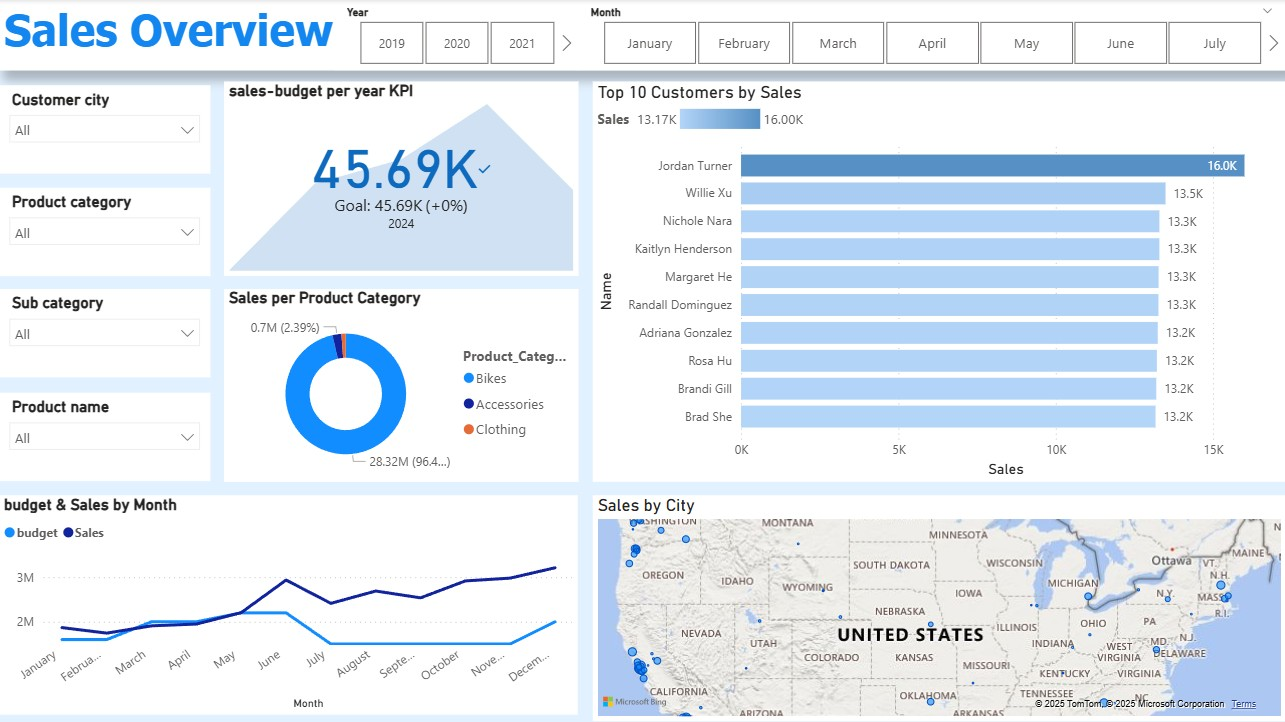

What the dashboard file says about the page in this screenshot:
{"tool":"powerbi","page":{"name":"Sales overview","canvas":[1280,720],"ordinal":0},"visuals":[{"type":"textbox","box":[0,0,1280.3,71.5],"z":0},{"type":"slicer","fields":{"Values":["customer&geography.Customer city"]},"box":[0,85.5,210.3,88.3],"z":1000},{"type":"slicer","fields":{"Values":["Productinfos.Sub_category"]},"box":[0,288.9,210.3,88.3],"z":2000},{"type":"slicer","fields":{"Values":["Productinfos.Product_Category"]},"box":[0,187.9,210.3,88.3],"z":3000},{"type":"slicer","fields":{"Values":["Productinfos.Product_name"]},"box":[0,391.2,210.3,88.3],"z":4000},{"type":"slicer","fields":{"Values":["dimdatedata.Year"]},"box":[333.4,1.4,242.9,70],"z":5000},{"type":"slicer","fields":{"Values":["dimdatedata.Monthh"]},"box":[576.3,1.4,703.9,70],"z":6000},{"type":"kpi","title":"sales-budget per year KPI","fields":{"TrendLine":["dimdatedata.Year"],"Goal":["key measures.Sales"],"Indicator":["key measures.sales-budget"]},"box":[223.7,82.3,352.7,193.5],"z":7000},{"type":"donutChart","title":"Sales per Product Category","fields":{"Category":["Productinfos.Product_Category"],"Y":["key measures.Sales_sum"]},"box":[223.6,288.9,352.8,191.7],"z":8000},{"type":"lineChart","title":"budget & Sales by Month","fields":{"Category":["dimdatedata.Monthh"],"Y":["key measures.budget_sum","key measures.Sales_sum"]},"box":[0,494.4,576.4,218.1],"z":9000},{"type":"barChart","title":"Top 10 Customers by Sales","fields":{"Y":["key measures.Sales_sum"],"Category":["customer&geography.Full_Name"]},"box":[590.3,81.9,690.3,398.6],"z":10000},{"type":"map","title":"Sales by City","fields":{"Category":["customer&geography.Customer city"],"Size":["key measures.Sales_sum"]},"box":[590.3,494.4,690.3,225],"z":11000}]}

Visuals, with their boxes in screenshot pixels (x1, y1, x2, y2), scaled from the page's 1280x720 canvas onto the 1285x722 screenshot:
textbox: locate(0, 0, 1284, 72)
slicer - customer&geography.Customer city: locate(0, 86, 211, 174)
slicer - Productinfos.Sub_category: locate(0, 290, 211, 378)
slicer - Productinfos.Product_Category: locate(0, 188, 211, 277)
slicer - Productinfos.Product_name: locate(0, 392, 211, 481)
slicer - dimdatedata.Year: locate(335, 1, 579, 72)
slicer - dimdatedata.Monthh: locate(579, 1, 1284, 72)
"sales-budget per year KPI" kpi: locate(225, 83, 579, 277)
"Sales per Product Category" donutChart: locate(224, 290, 579, 482)
"budget & Sales by Month" lineChart: locate(0, 496, 579, 714)
"Top 10 Customers by Sales" barChart: locate(593, 82, 1284, 482)
"Sales by City" map: locate(593, 496, 1284, 721)
